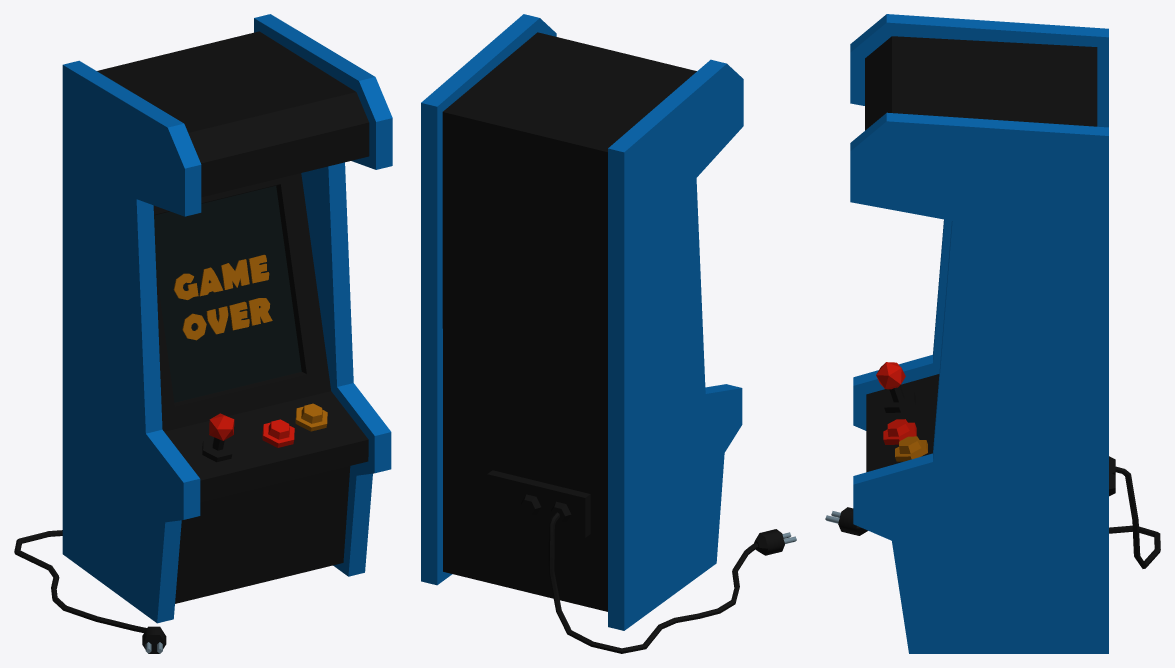
File: Asset_Electronic_GameMachine_01.fbx
3 renders of one model, left to right at view 1: azimuth 30°, elevation 25°; view 2: azimuth 150°, elevation 25°; view 3: azimuth 270°, elevation 25°, orthographic. The views are drawn at different scales.
Parts seen in each view (by area): view 1: gamemachine_01, Text001, Line166, Cylinder449; view 2: gamemachine_01, Line166, Cylinder449; view 3: gamemachine_01, Line166, Cylinder449.
Part boxes in pixels (x1=…): gamemachine_01: x1=62, y1=14, x2=392, y2=623; Text001: x1=173, y1=254, x2=272, y2=340; Line166: x1=14, y1=530, x2=146, y2=632; Cylinder449: x1=142, y1=626, x2=166, y2=653; gamemachine_01: x1=421, y1=14, x2=743, y2=630; Line166: x1=548, y1=512, x2=758, y2=653; Cylinder449: x1=754, y1=529, x2=796, y2=555; gamemachine_01: x1=850, y1=14, x2=1115, y2=653; Line166: x1=1109, y1=466, x2=1160, y2=568; Cylinder449: x1=825, y1=507, x2=867, y2=535.
Bounding box in the file's own units: 102 × 187 × 106.
